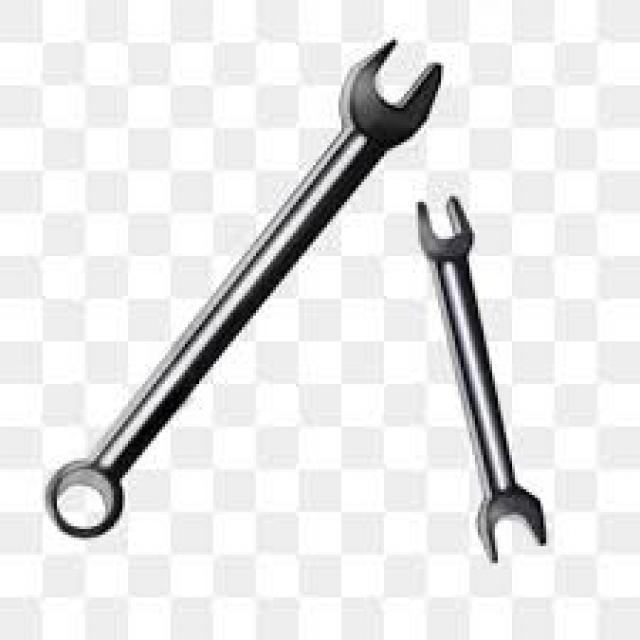wrench: (44, 32, 447, 542), (410, 191, 552, 567)
